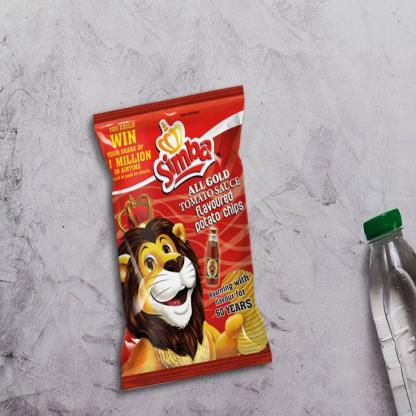potatochip: (86, 78, 276, 398)
